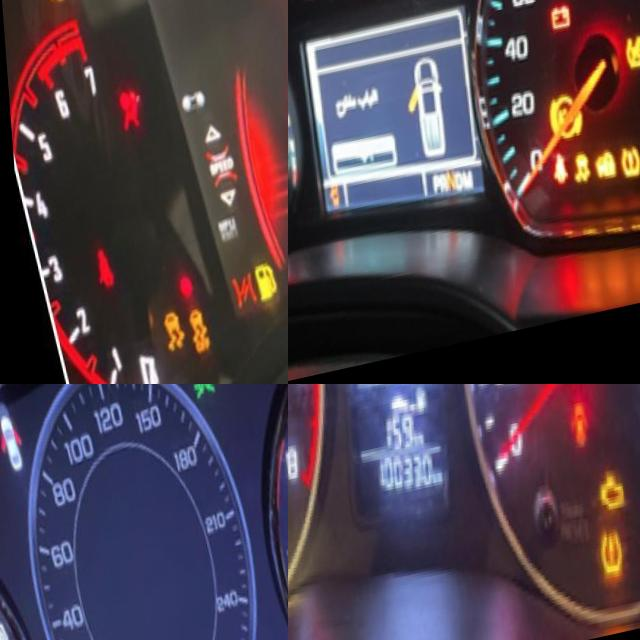Doors: (0, 412, 29, 491)
Low fuel level: (239, 258, 276, 324)
Seat Belt: (545, 173, 562, 210)
